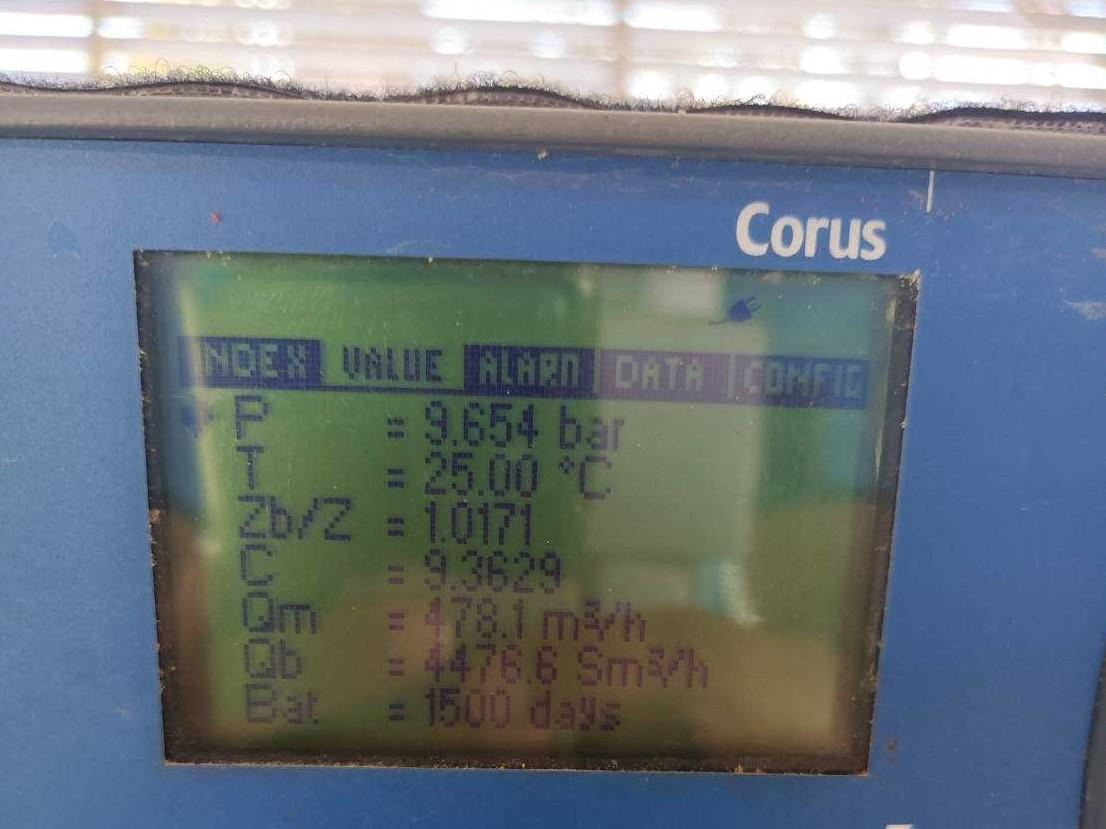digital_screen: (126, 249, 916, 775)
